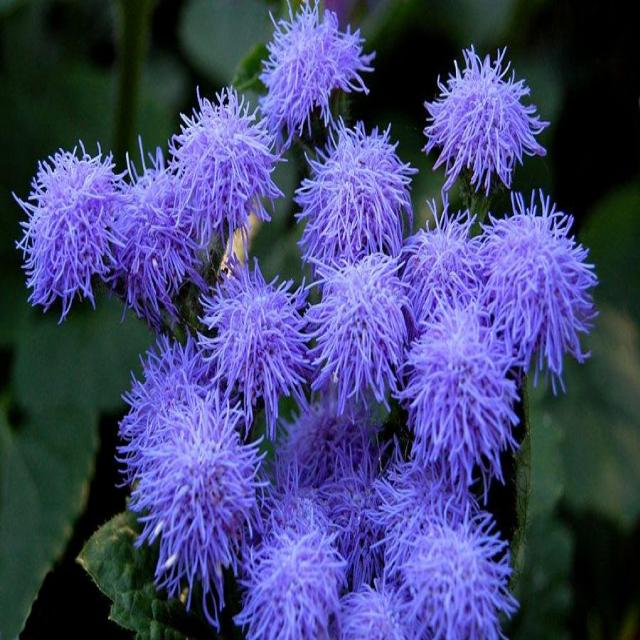organic waste: (390, 219, 524, 483), (120, 353, 250, 612), (469, 199, 601, 400), (200, 243, 311, 431), (18, 139, 129, 317), (381, 491, 514, 636), (111, 134, 208, 324), (420, 48, 547, 187), (311, 248, 416, 412), (234, 495, 346, 639), (251, 3, 375, 127), (295, 140, 408, 268), (174, 91, 272, 232)
